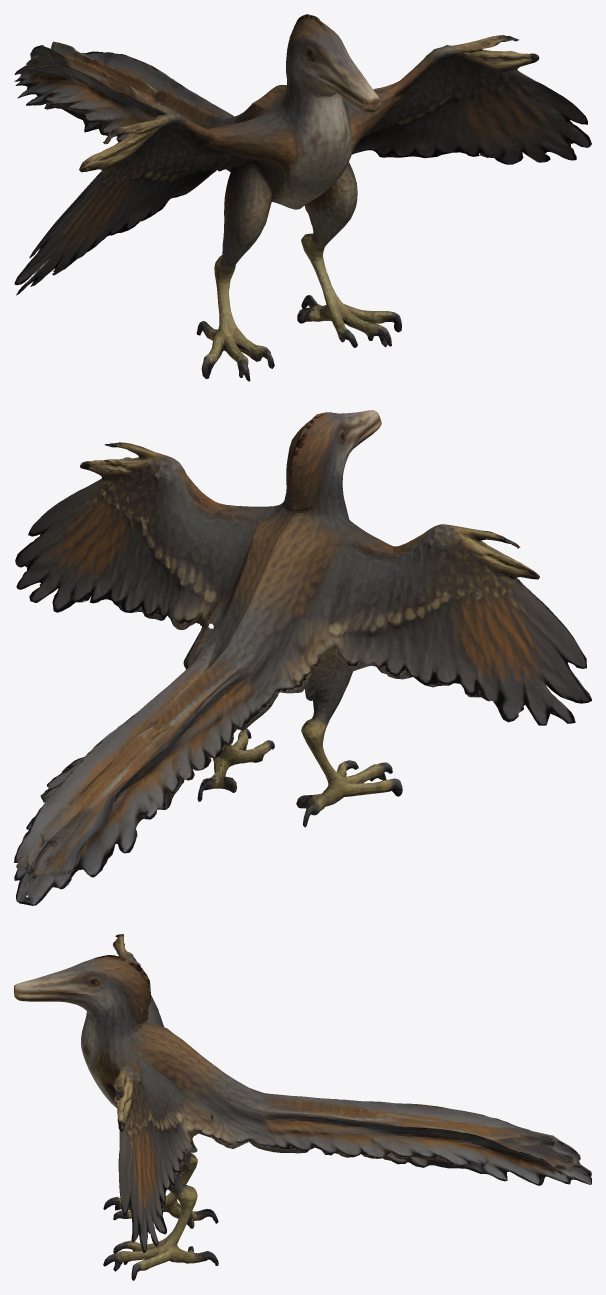
The picture shows the model from 3 angles, top to bottom: view 1: azimuth 30°, elevation 25°; view 2: azimuth 150°, elevation 25°; view 3: azimuth 270°, elevation 25°; orthographic projection. The views are drawn at different scales.
Parts seen in each view (by area): view 1: world; view 2: world; view 3: world.
Part boxes in pixels (box(x1,y1,x2,y2)): world: box(14, 14, 591, 381); world: box(14, 410, 591, 905); world: box(14, 934, 591, 1280).
Bounding box in the file's own units: 0.9508 × 0.5545 × 1.
1 material, 1 textured.
